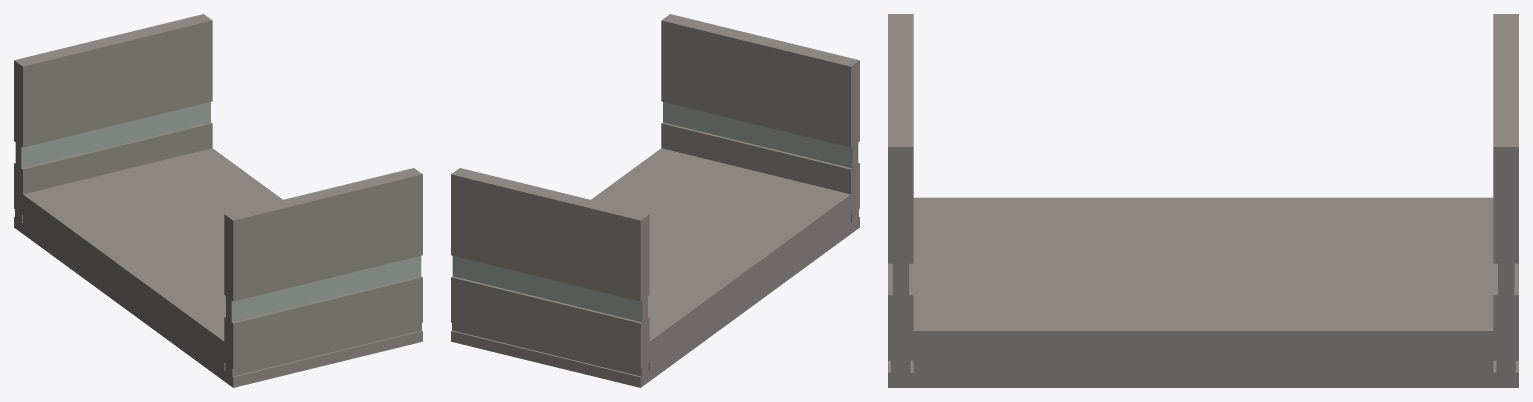
The model's file is SM_ladder_02.glb.
3 views of the same model, side by side, from view 1: azimuth 30°, elevation 25°; view 2: azimuth 150°, elevation 25°; view 3: azimuth 270°, elevation 25° (orthographic). The views are drawn at different scales.
Parts seen in each view (by area): view 1: SM_ladder_02; view 2: SM_ladder_02; view 3: SM_ladder_02.
Boxes of the visible parts, <box> form: SM_ladder_02: <box>14,14,422,387</box>; SM_ladder_02: <box>451,14,859,387</box>; SM_ladder_02: <box>888,14,1518,387</box>.
Bounding box in the file's own units: 1 × 0.8435 × 2.
Materials: 1 (1 with a texture image).
